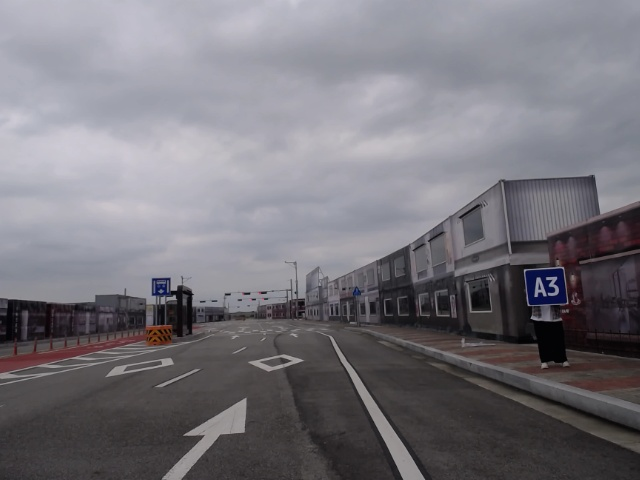delivery_a3: (524, 267, 568, 306)
